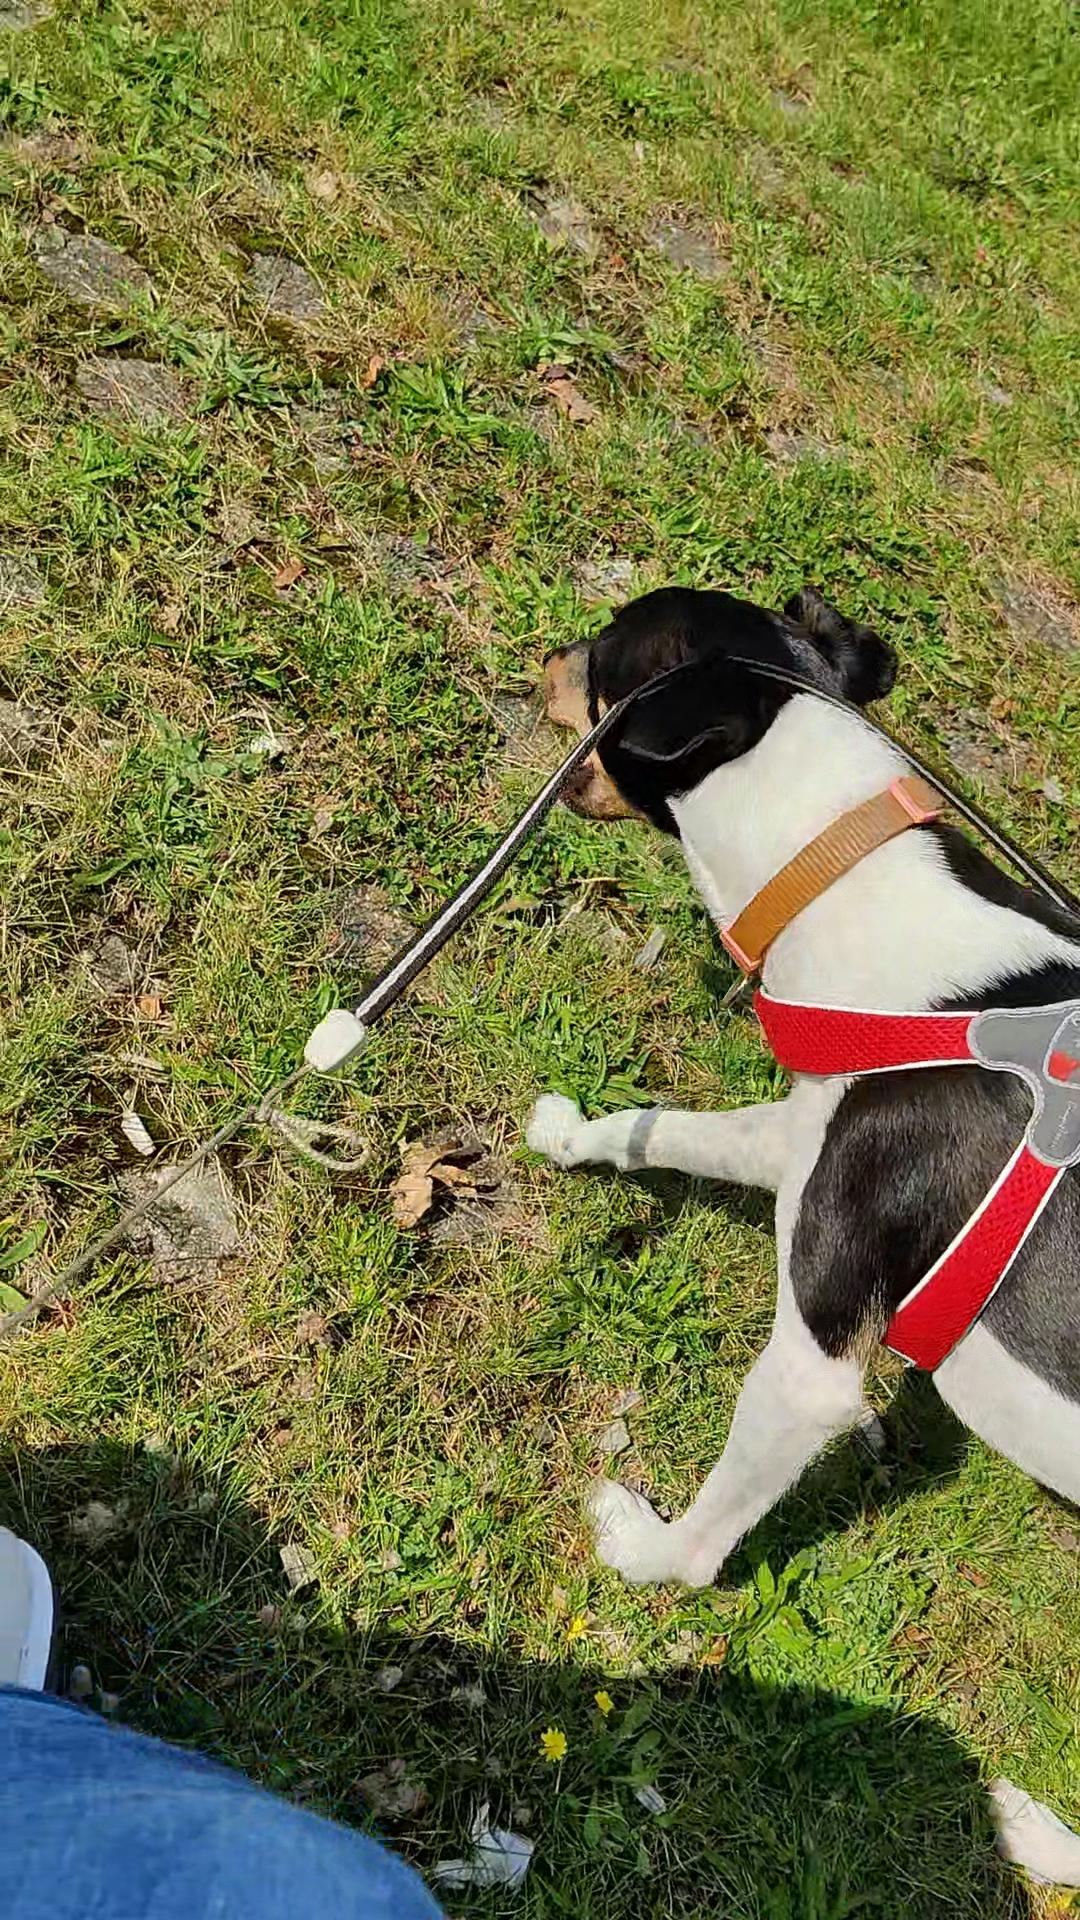Dog: (465, 545, 1079, 1919)
